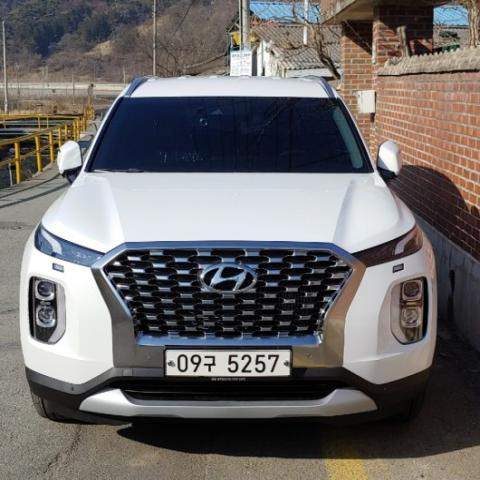LP: (162, 344, 298, 384)
